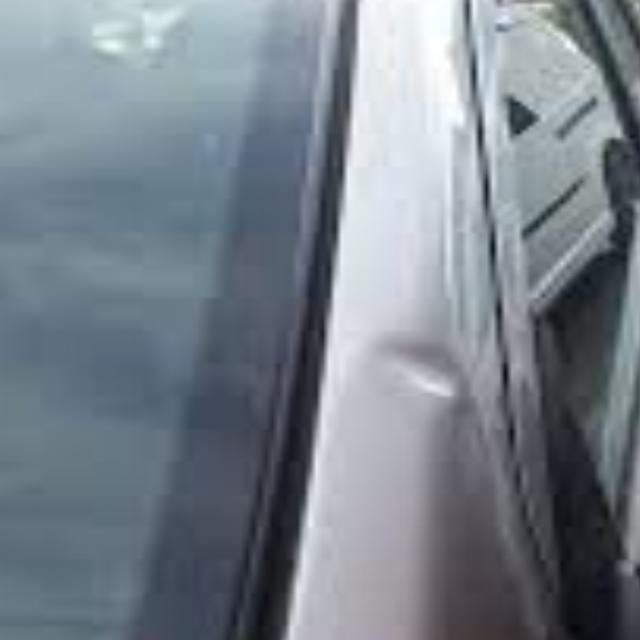dents: (352, 325, 494, 417)
